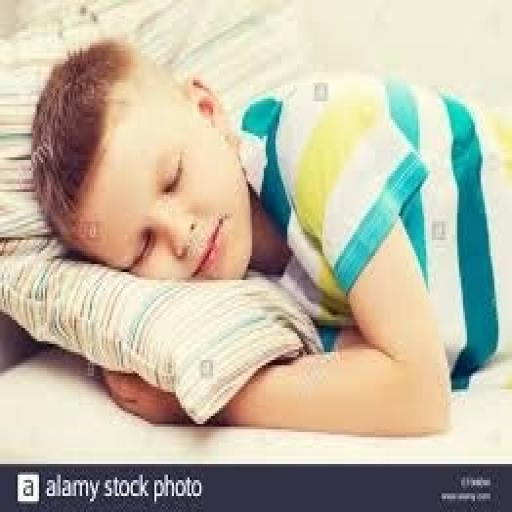sleeping: (28, 32, 504, 437)
